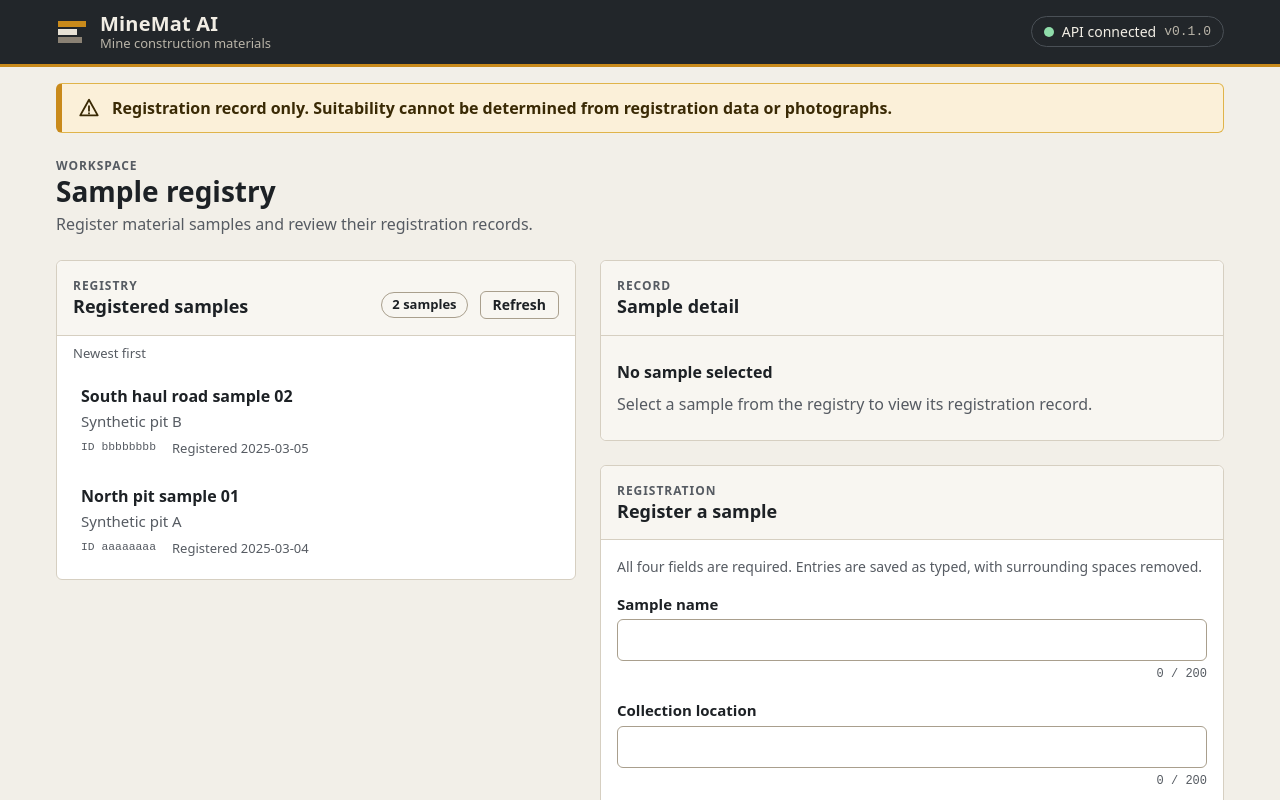
Test: sample detail › asks the detail endpoint for the selected sample and shows its returned fields
The image size is (1280, 800).
Expected: the text "No sample selected" is shown, [617, 360, 772, 384]
Click the button "South haul road sample 02" at {"x": 187, "y": 396}, box [65, 371, 567, 471]
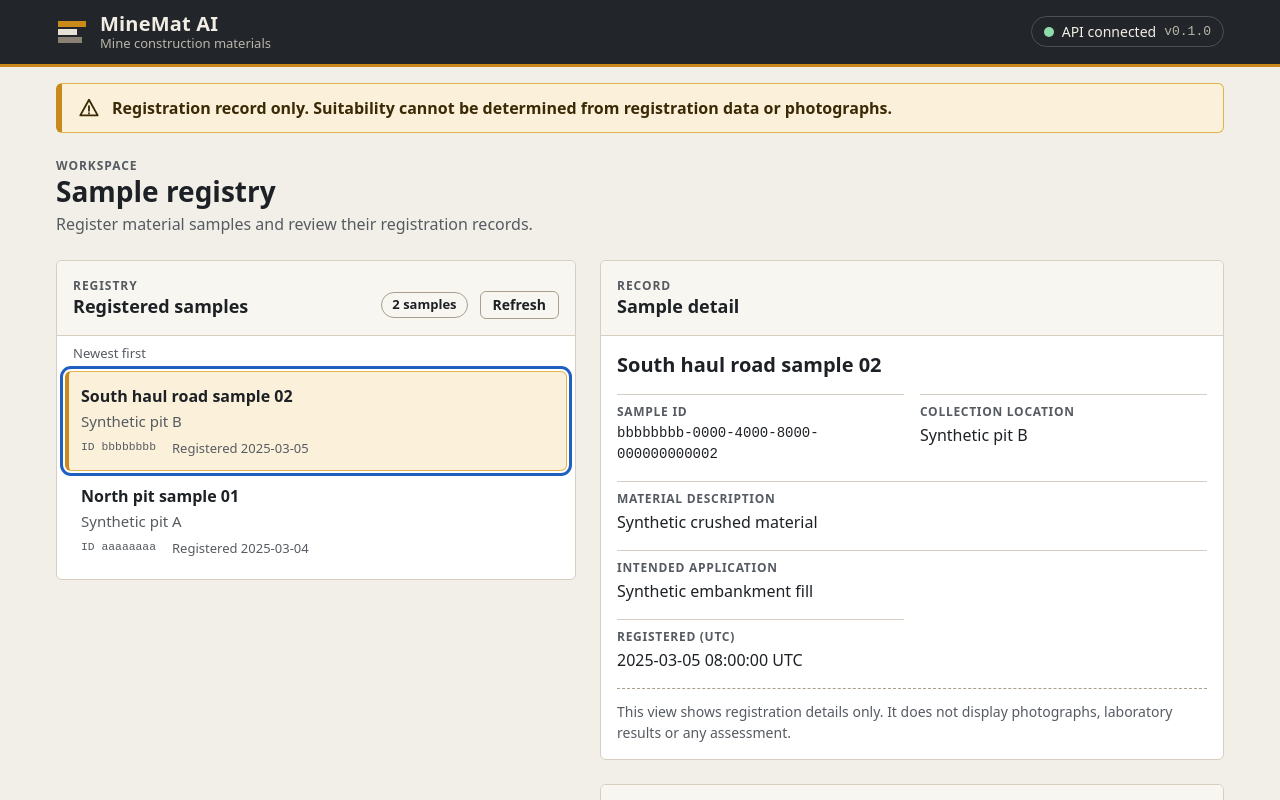
Expected: the heading "South haul road sample 02" is shown, [617, 351, 882, 378]
Expected: the text "bbbbbbbb-0000-4000-8000-000000000002" is shown, [617, 425, 819, 462]
Expected: the text "Synthetic pit B" next to "bbbbbbbb-0000-4000-8000-000000000002" is shown, [920, 424, 1028, 446]
